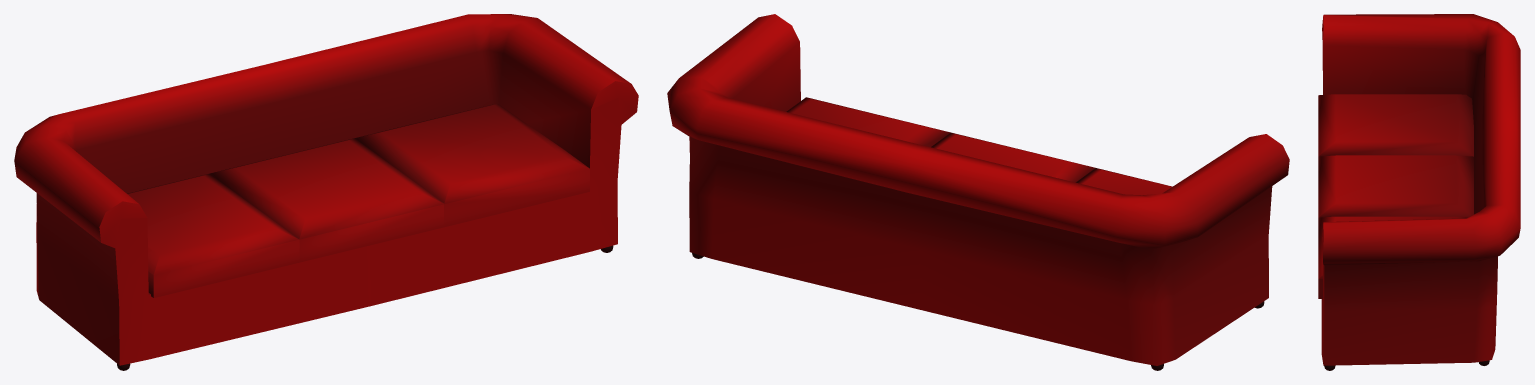
File: RoundedSofa.glb
The picture shows the model from 3 angles, left to right: view 1: azimuth 30°, elevation 25°; view 2: azimuth 150°, elevation 25°; view 3: azimuth 270°, elevation 25°; orthographic projection. The views are drawn at different scales.
Parts seen in each view (by area): view 1: RoundedSofa; view 2: RoundedSofa; view 3: RoundedSofa.
Part boxes in pixels (x1=…): RoundedSofa: x1=14, y1=14, x2=638, y2=370; RoundedSofa: x1=667, y1=14, x2=1289, y2=370; RoundedSofa: x1=1318, y1=14, x2=1520, y2=370.
Bounding box in the file's own units: 11.11 × 3.42 × 4.18.
